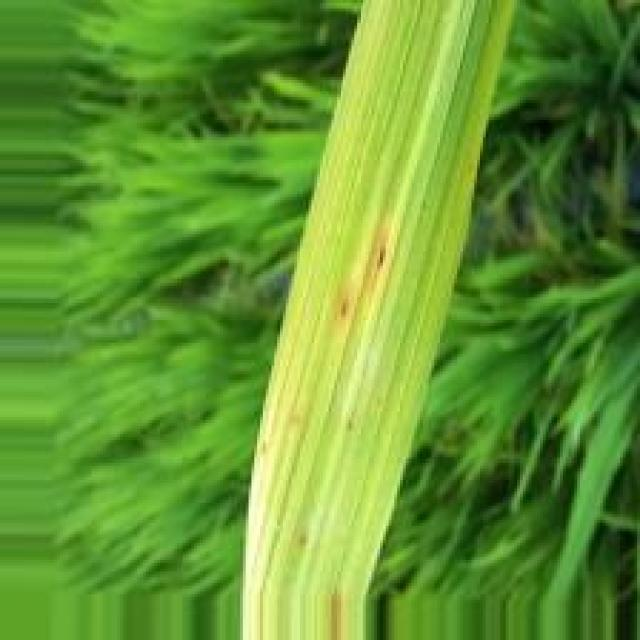Brown_Spot: (369, 237, 395, 270), (338, 292, 352, 321)
